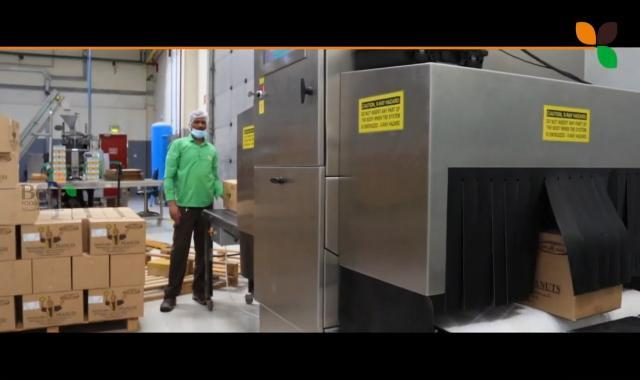Hairnet: (188, 108, 209, 129)
Mask: (189, 130, 207, 140)
No_Apron: (172, 140, 218, 209)
No_Glove: (165, 199, 183, 221)
